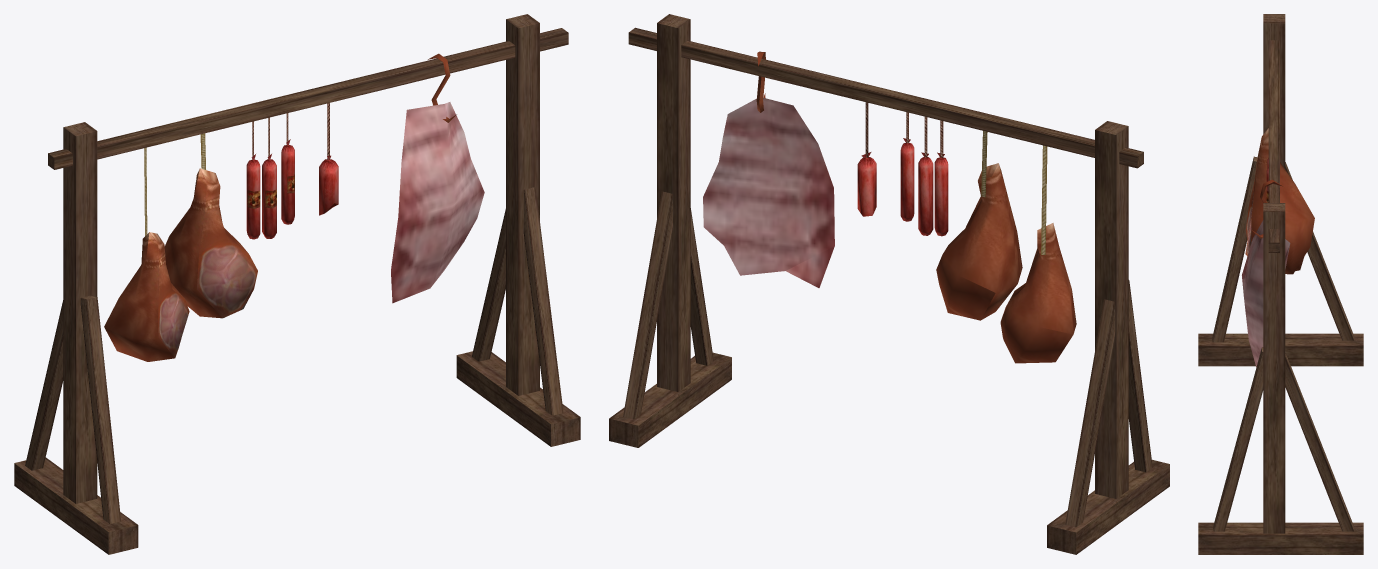
File: shop_butcher_hanger.fbx
3 views of the same model, side by side, from view 1: azimuth 30°, elevation 25°; view 2: azimuth 150°, elevation 25°; view 3: azimuth 270°, elevation 25° (orthographic). The views are drawn at different scales.
Parts seen in each view (by area): view 1: polySurface21, pCube3, pCube2, pCube4, ham1, ham, pCube6, pCube7, pCube9, pCube8, pCube11, pCube10 (+4 smaller); view 2: polySurface21, pCube2, pCube3, pCube4, ham1, ham, pCube6, pCube7, pCube11, pCube10, pCube9, pCube8 (+4 smaller); view 3: pCube2, pCube6, pCube7, ham1, pCube10, polySurface21, pCube8, pCube4, pCube9, pCube3, pCube11, ham.
Part boxes in pixels (x1=…): polySurface21: x1=391, y1=102, x2=484, y2=303; pCube3: x1=63, y1=122, x2=97, y2=503; pCube2: x1=506, y1=14, x2=539, y2=395; pCube4: x1=48, y1=28, x2=568, y2=169; ham1: x1=164, y1=133, x2=257, y2=318; ham: x1=104, y1=147, x2=189, y2=361; pCube6: x1=456, y1=351, x2=580, y2=446; pCube7: x1=14, y1=457, x2=138, y2=554; pCube9: x1=80, y1=295, x2=120, y2=523; pCube8: x1=523, y1=187, x2=563, y2=415; pCube11: x1=25, y1=300, x2=63, y2=470; pCube10: x1=472, y1=209, x2=505, y2=361; polySurface21: x1=703, y1=98, x2=834, y2=287; pCube2: x1=657, y1=14, x2=690, y2=391; pCube3: x1=1095, y1=121, x2=1128, y2=498; pCube4: x1=628, y1=27, x2=1143, y2=168; ham1: x1=936, y1=131, x2=1022, y2=320; ham: x1=1000, y1=145, x2=1076, y2=363; pCube6: x1=609, y1=352, x2=731, y2=447; pCube7: x1=1047, y1=459, x2=1169, y2=554; pCube11: x1=1065, y1=299, x2=1115, y2=527; pCube10: x1=623, y1=191, x2=672, y2=419; pCube9: x1=1128, y1=280, x2=1152, y2=472; pCube8: x1=690, y1=208, x2=713, y2=365; pCube2: x1=1263, y1=203, x2=1285, y2=533; pCube6: x1=1198, y1=522, x2=1363, y2=554; pCube7: x1=1198, y1=333, x2=1363, y2=366; ham1: x1=1245, y1=128, x2=1314, y2=274; pCube10: x1=1285, y1=353, x2=1354, y2=531; polySurface21: x1=1242, y1=220, x2=1290, y2=366; pCube8: x1=1213, y1=347, x2=1263, y2=531; pCube4: x1=1268, y1=40, x2=1279, y2=252; pCube9: x1=1212, y1=156, x2=1257, y2=342; pCube3: x1=1263, y1=14, x2=1285, y2=168; pCube11: x1=1285, y1=162, x2=1354, y2=340; ham: x1=1245, y1=181, x2=1303, y2=270.
Size of the model in its own units: 1437 by 1049 by 458.
Materials: 1 (1 with a texture image).
